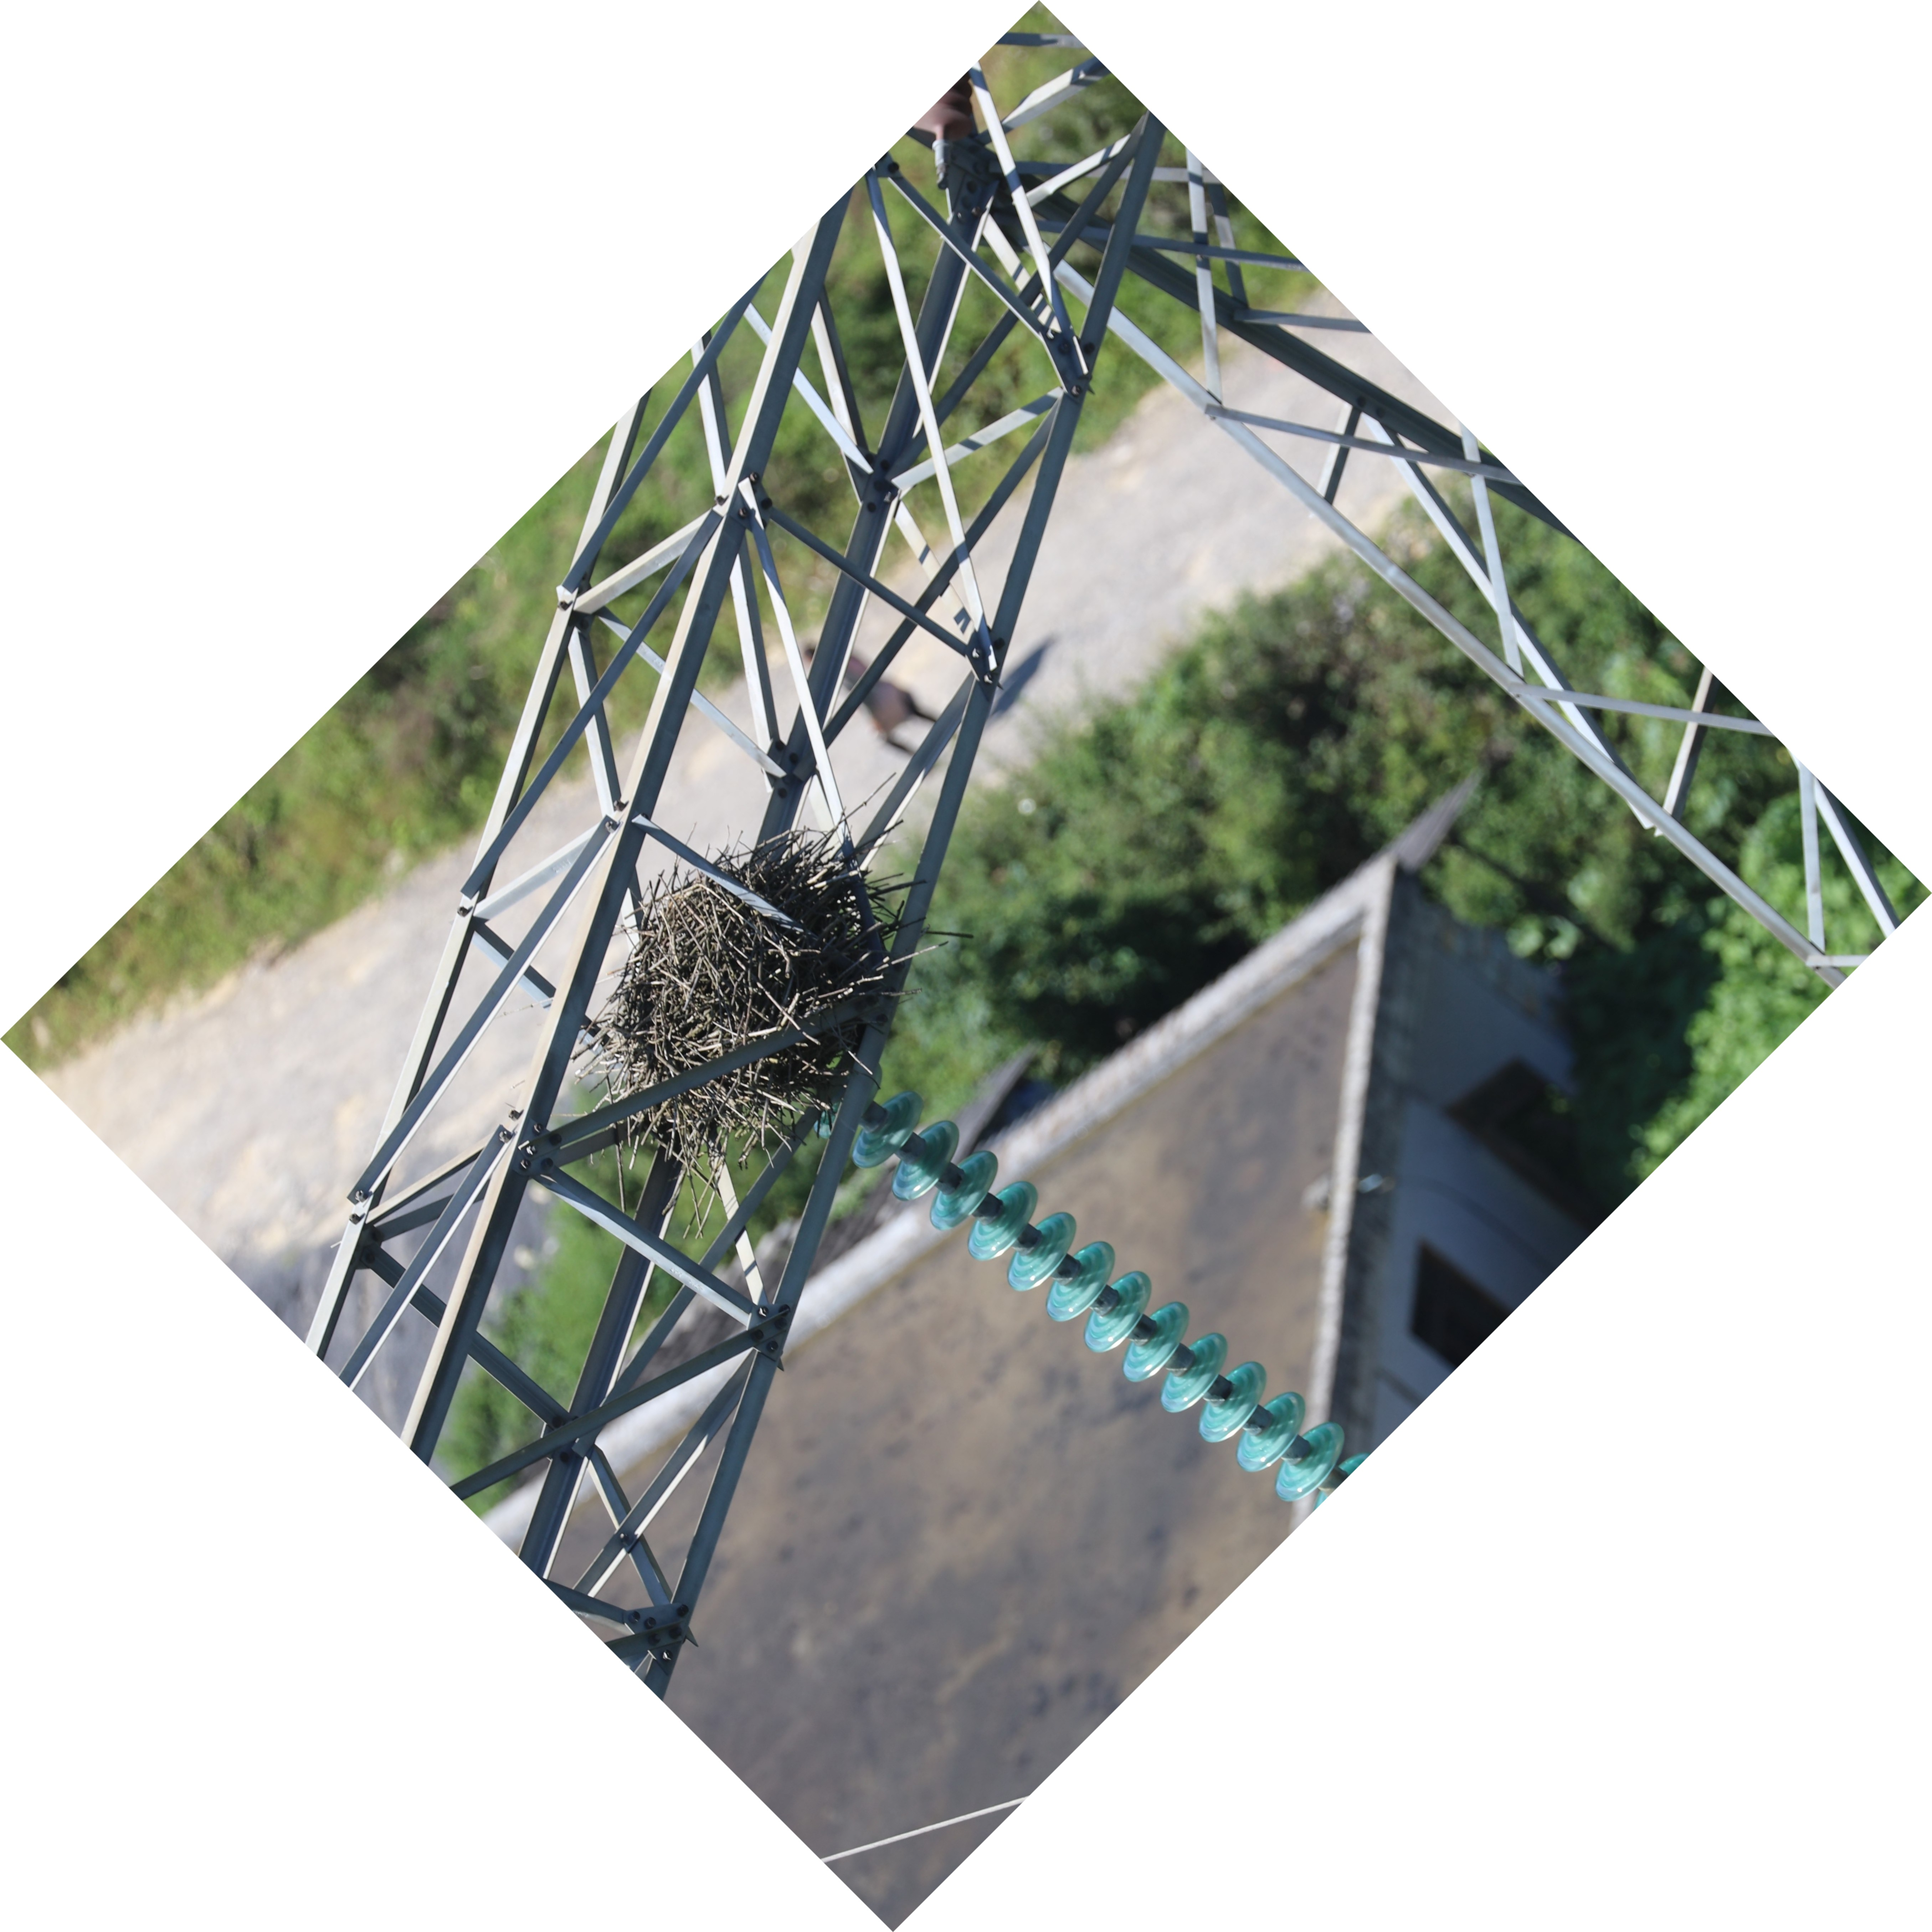niaowo: (556, 814, 924, 1182)
